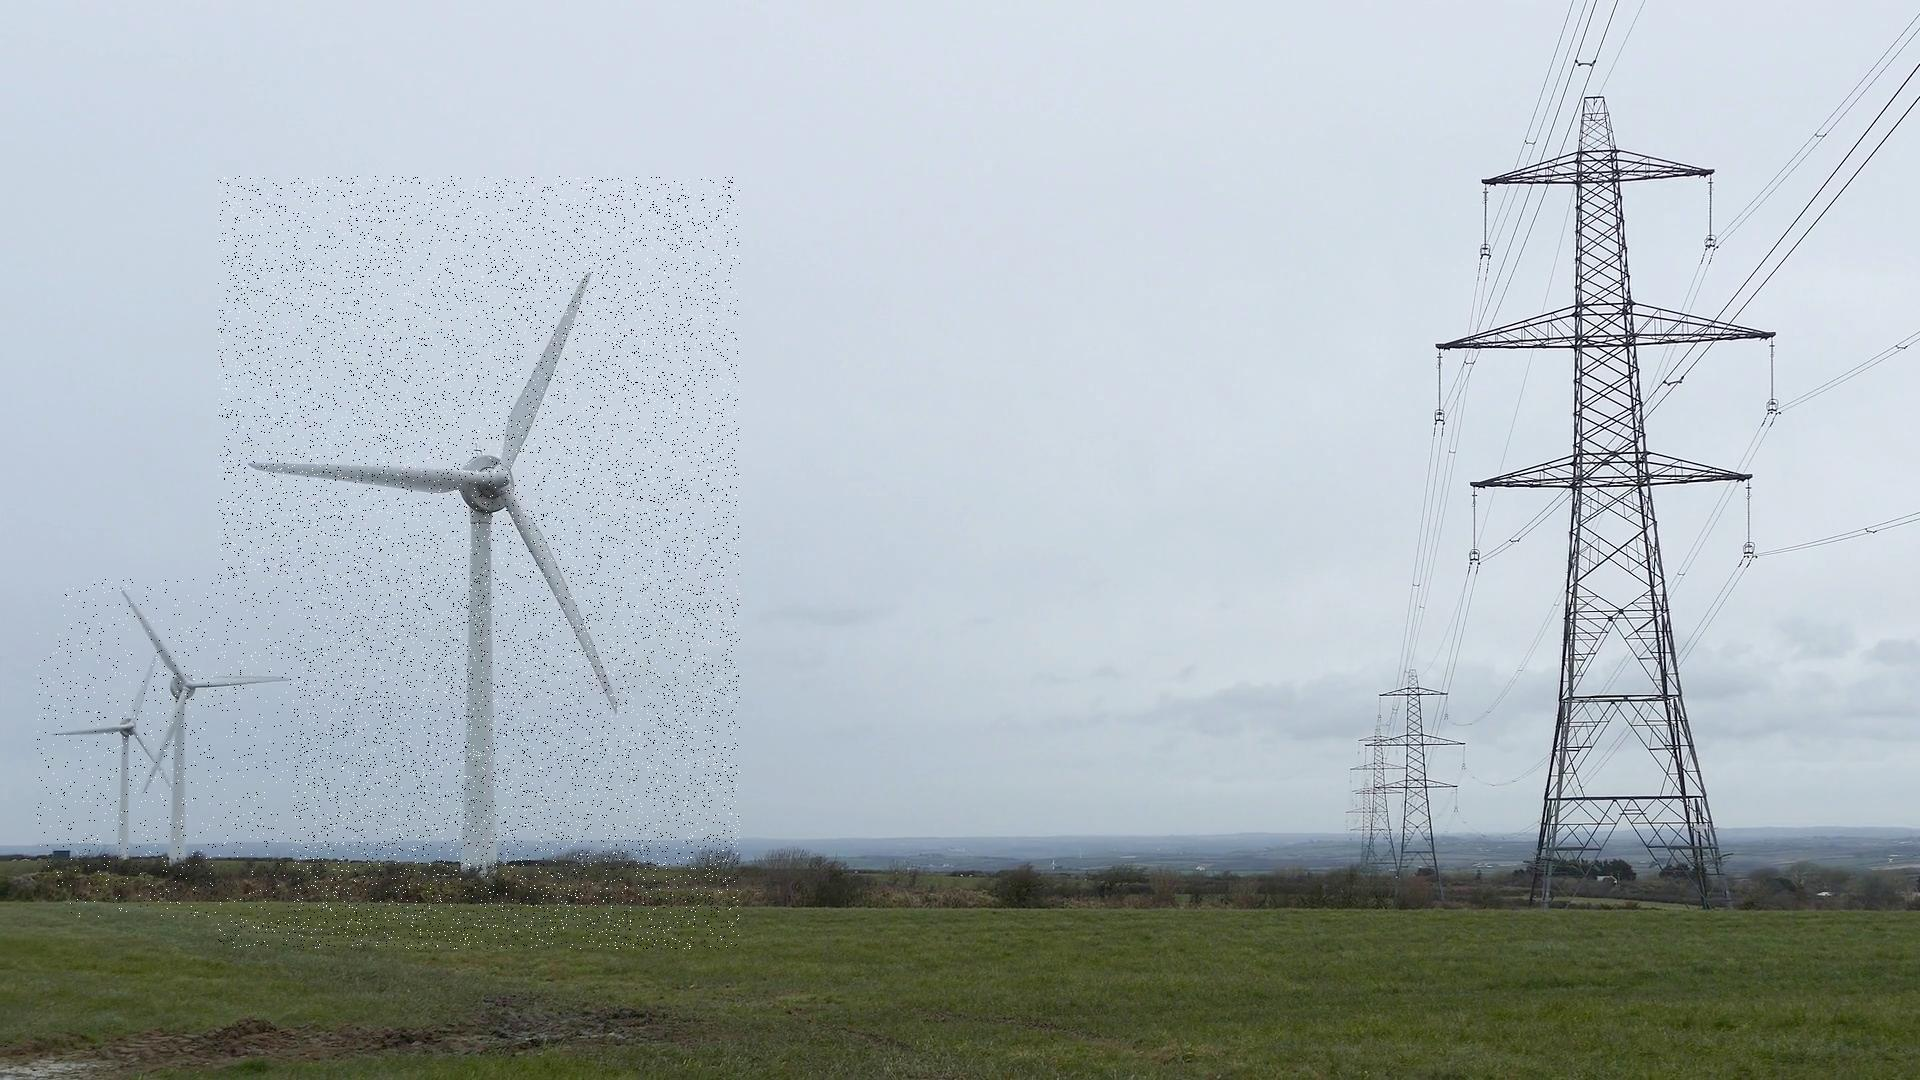cable tower: (1433, 94, 1779, 915), (1361, 666, 1468, 902), (1349, 725, 1407, 878), (1345, 783, 1385, 865)
turbine: (218, 175, 740, 949), (63, 579, 293, 918), (37, 633, 193, 887)
